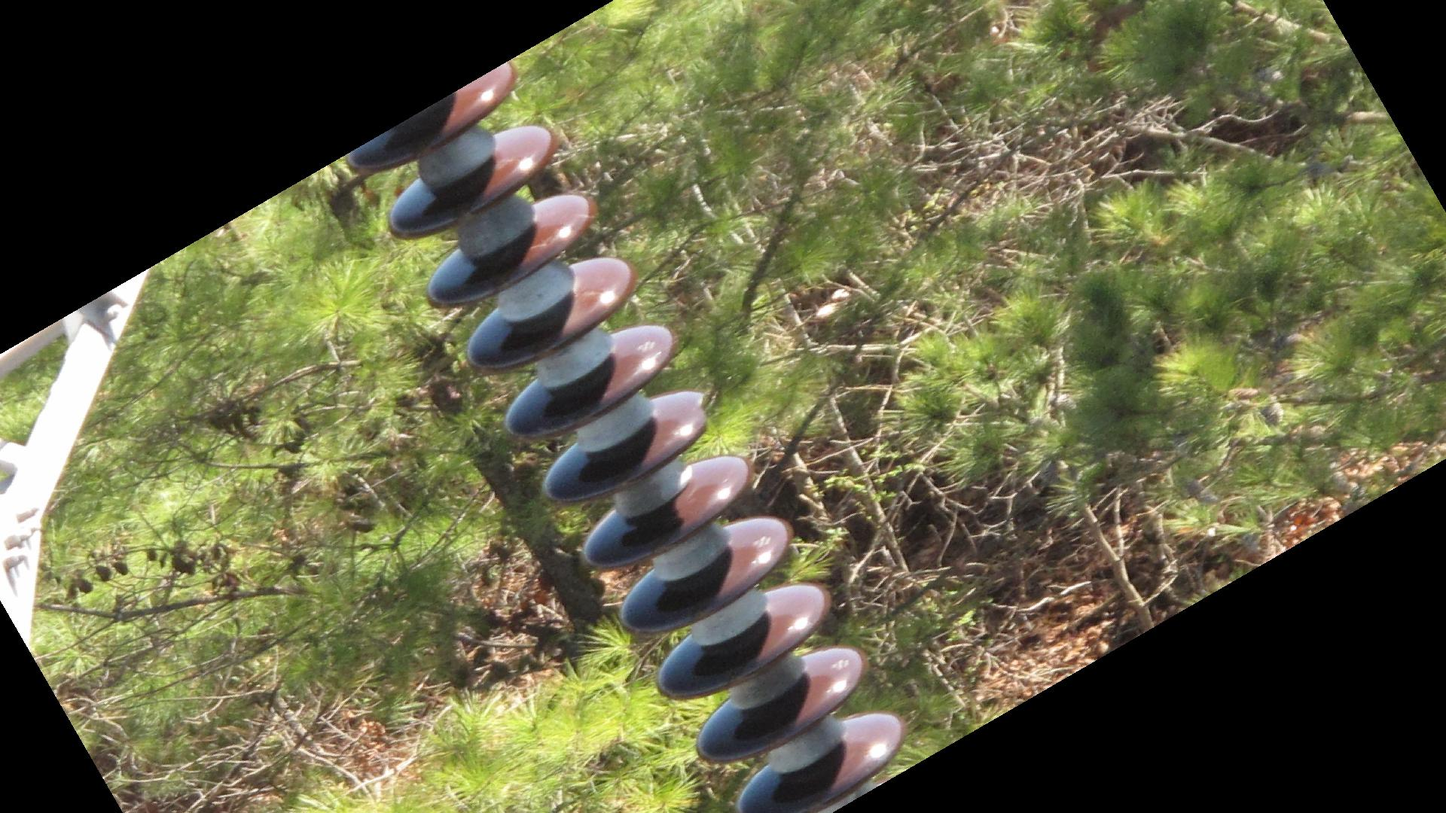insulator: (338, 53, 911, 813)
insulator_breakage: (685, 388, 717, 438)
